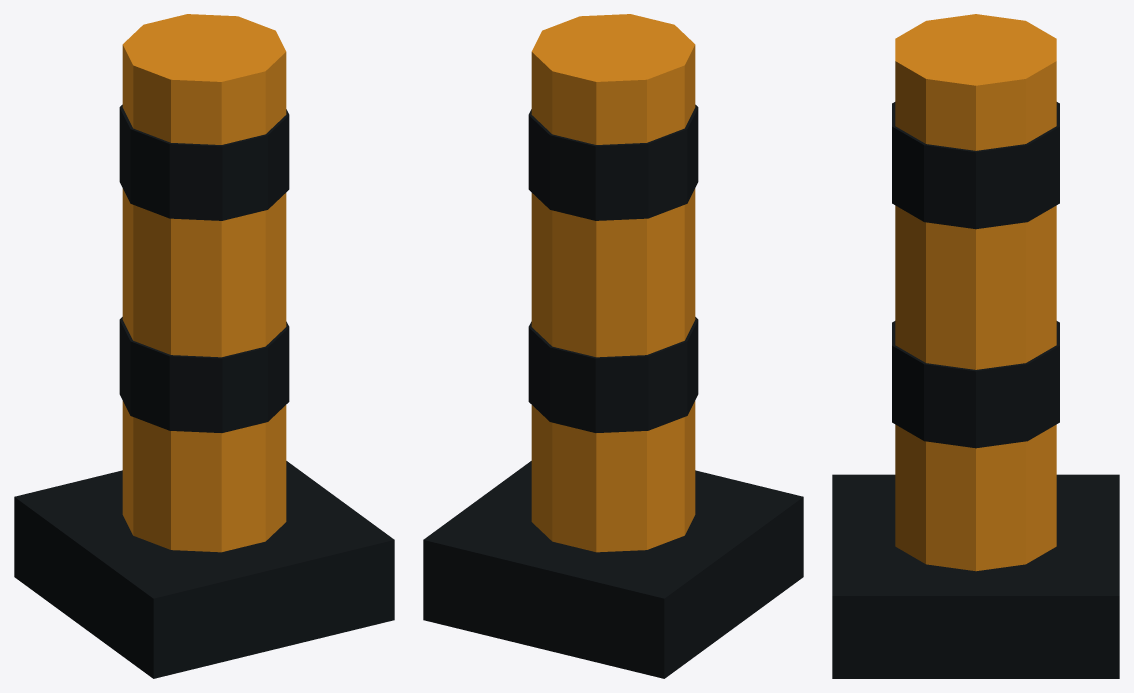
The model's file is Bollard.obj.
3 views of the same model, side by side, from view 1: azimuth 30°, elevation 25°; view 2: azimuth 150°, elevation 25°; view 3: azimuth 270°, elevation 25° (orthographic). The views are drawn at different scales.
Visible parts, largest first — view 1: Bollard; view 2: Bollard; view 3: Bollard.
Part boxes in pixels (x1=…): Bollard: x1=14, y1=14, x2=394, y2=678; Bollard: x1=423, y1=14, x2=803, y2=678; Bollard: x1=832, y1=14, x2=1119, y2=678.
Size of the model in its own units: 0.44 by 0.96 by 0.44.
